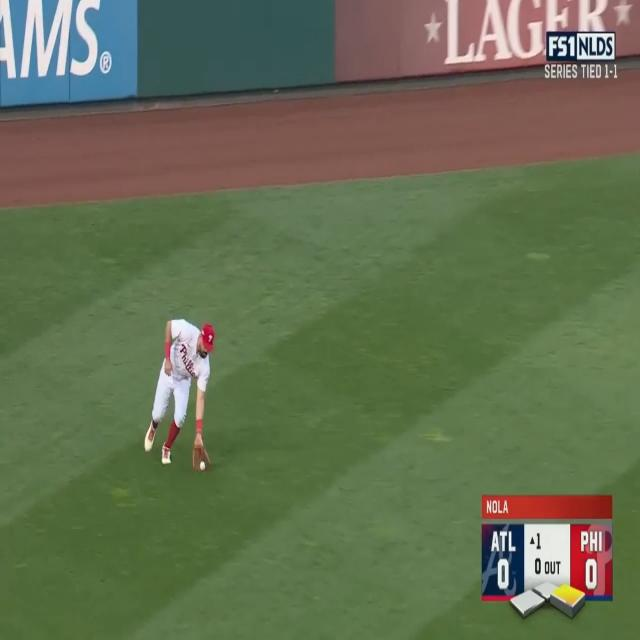baseball: (199, 460, 206, 472)
